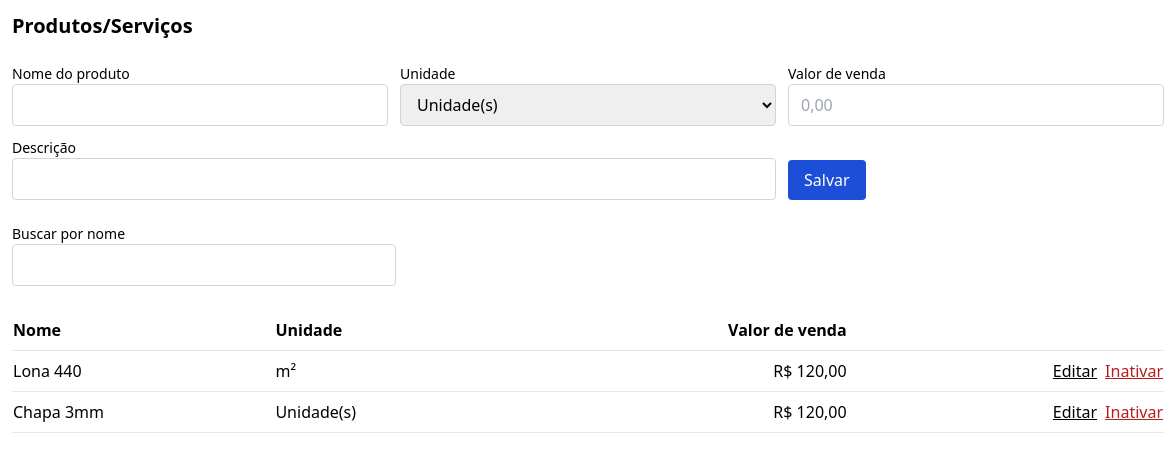
Test case: ProdutosPage › filtra a lista por nome
This screenshot has width=1176, height=450.
Expected: the text "Lona 440" is shown, [12,350,274,392]
Step 1. Type "chapa" into the field labelled "Buscar por nome" → (204, 265), box [12,244,396,286]
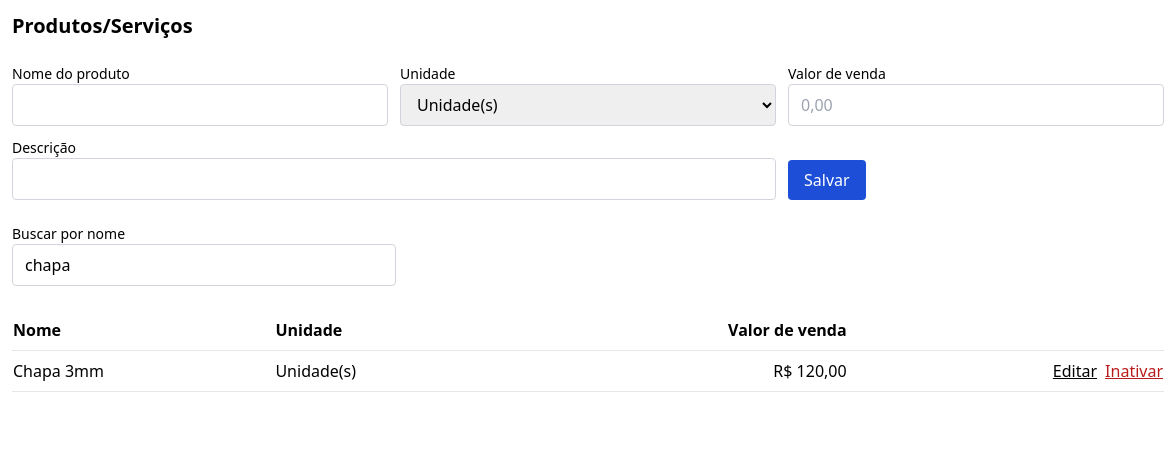
Expected: the text "Chapa 3mm" is shown, [12,350,274,392]
Expected: the text "Lona 440" is gone
